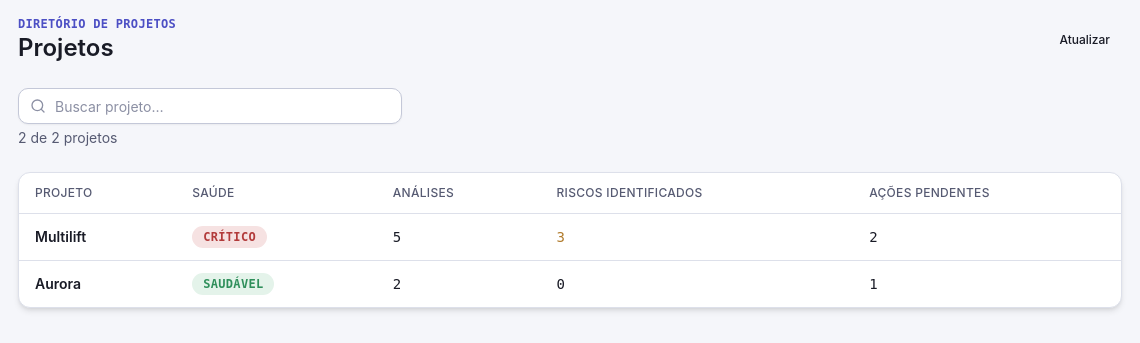
Test: ProjectsPage › busca client-side › shows a distinct message (not the empty-portfolio message) when the search matches nothing
The image size is (1140, 343).
Type "não existe" into the search field labelled "Buscar projeto" at (210, 106), box 18,88 -> 402,124
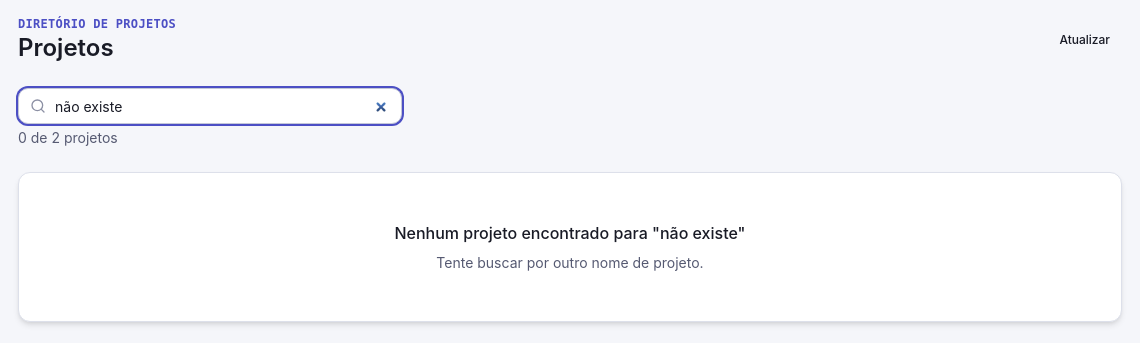
Result: the text "Nenhum projeto encontrado para \"não existe\"" is shown at 394,221 -> 746,245
